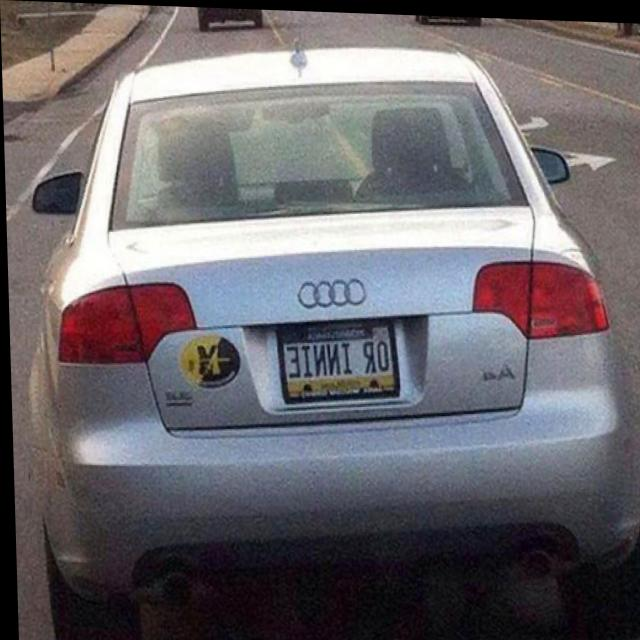licence: (279, 308, 395, 402)
